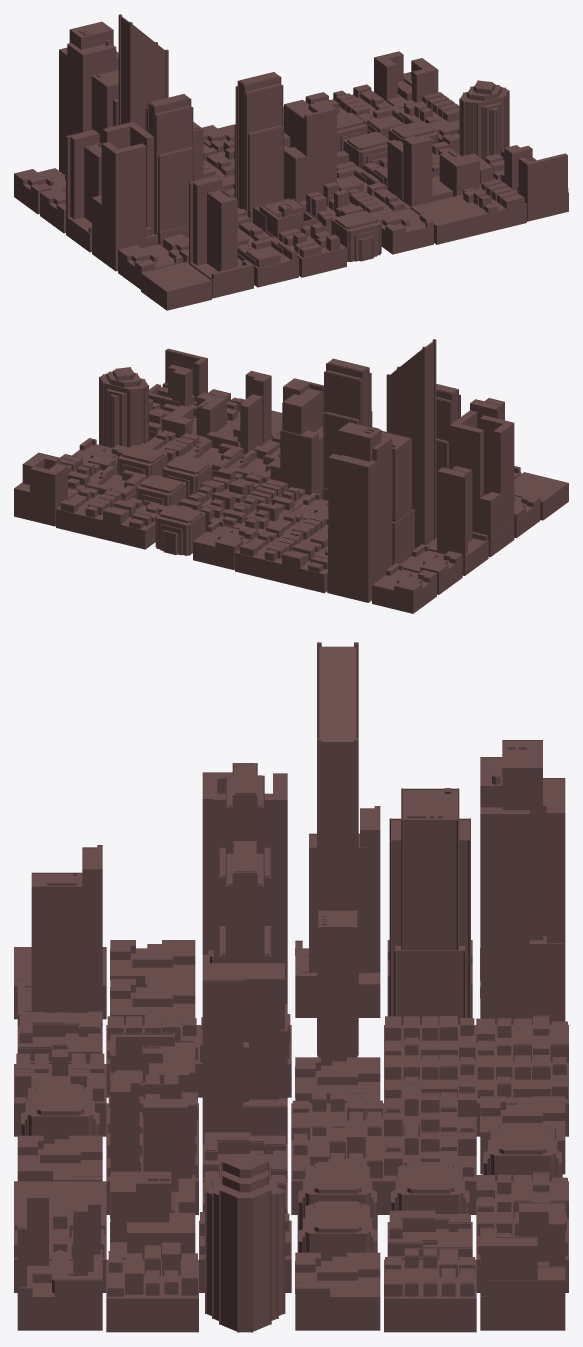
The picture shows the model from 3 angles, top to bottom: view 1: azimuth 30°, elevation 25°; view 2: azimuth 150°, elevation 25°; view 3: azimuth 270°, elevation 25°; orthographic projection. The views are drawn at different scales.
Parts seen in each view (by area): view 1: Mograph_City_Rig.1; view 2: Mograph_City_Rig.1; view 3: Mograph_City_Rig.1.
Part boxes in pixels (x1=…): Mograph_City_Rig.1: x1=14, y1=14, x2=568, y2=310; Mograph_City_Rig.1: x1=14, y1=339, x2=568, y2=613; Mograph_City_Rig.1: x1=14, y1=642, x2=568, y2=1332.
Bounding box in the file's own units: 4505 × 2267 × 3000.
